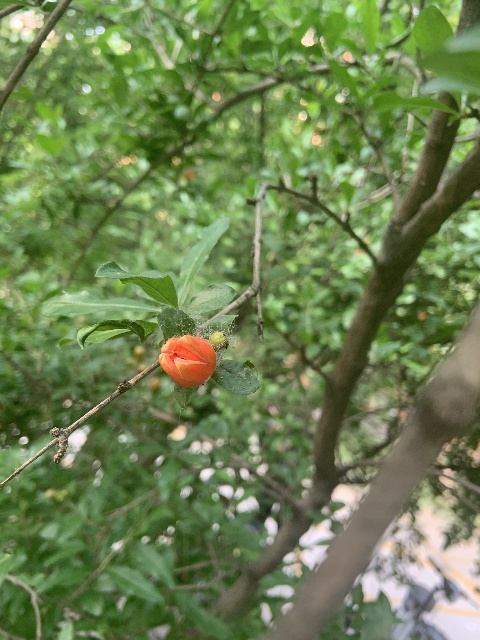bud: (208, 331, 226, 347)
flower: (159, 334, 216, 388)
